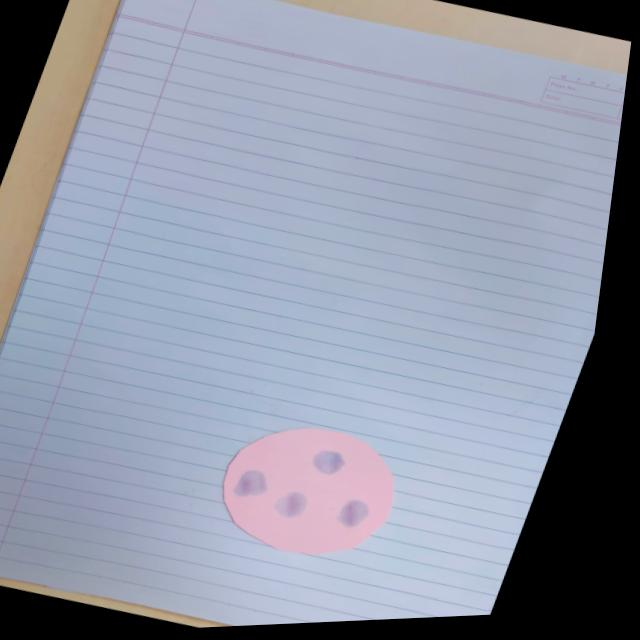BlueColor: (232, 469, 267, 497), (337, 500, 368, 527), (274, 492, 306, 518), (312, 450, 344, 474)
